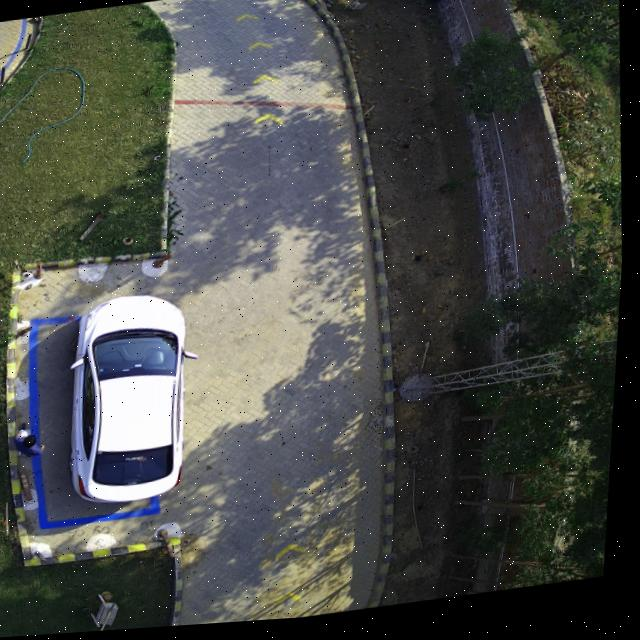car: (74, 297, 201, 504)
